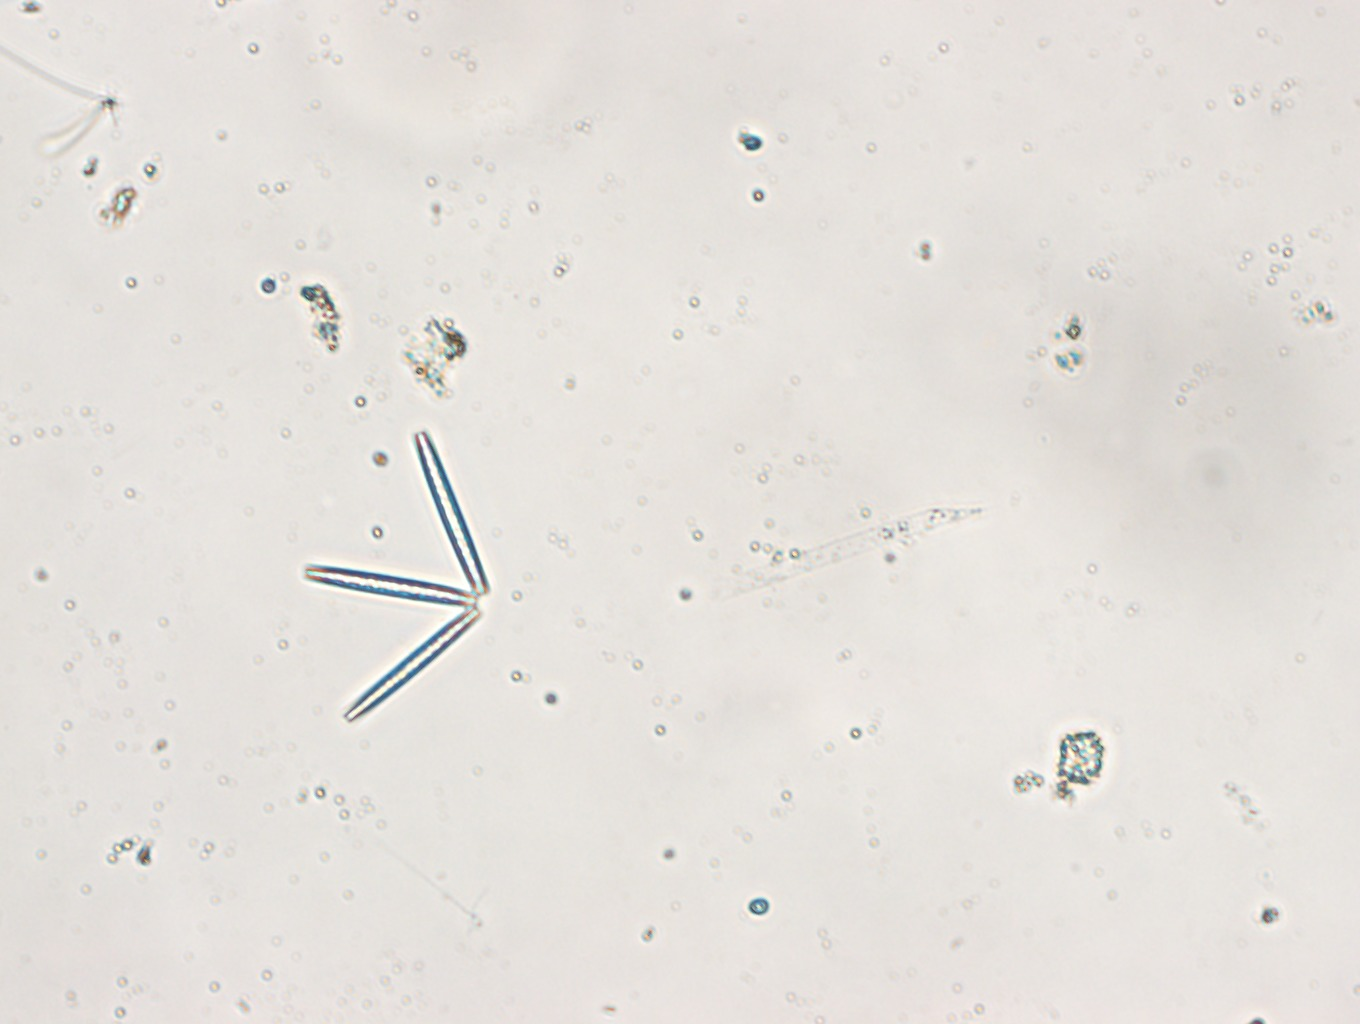thalassionema nitzschioides: (298, 426, 501, 726)
